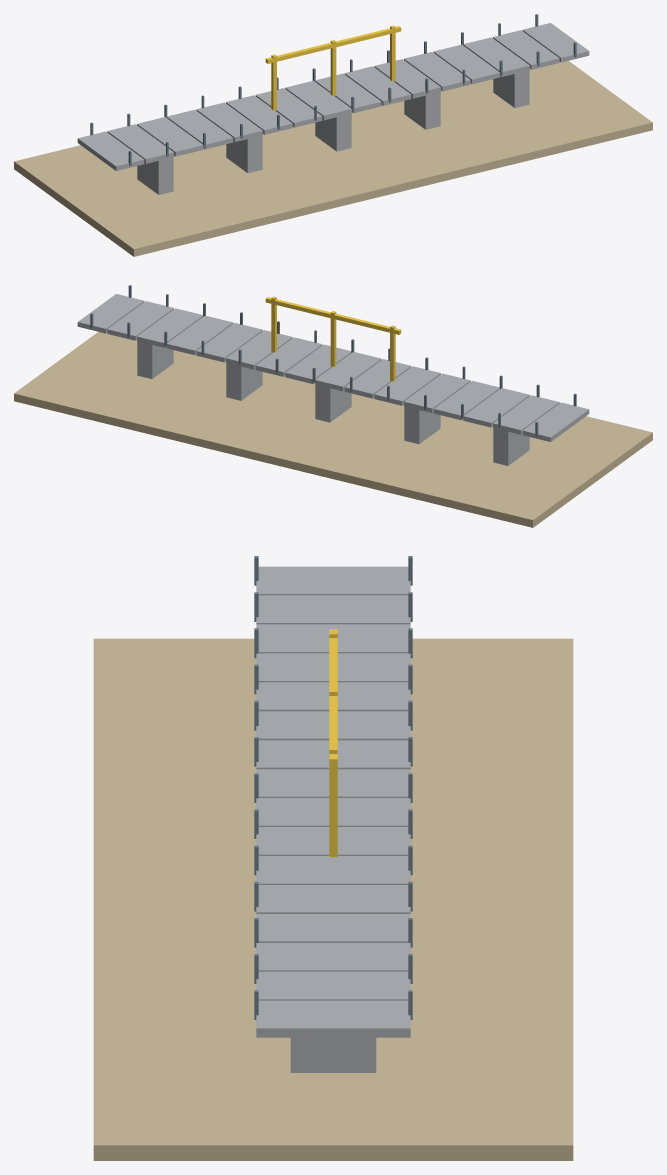
File: gpt-ponte-do-caos.glb
The picture shows the model from 3 angles, top to bottom: view 1: azimuth 30°, elevation 25°; view 2: azimuth 150°, elevation 25°; view 3: azimuth 270°, elevation 25°; orthographic projection. The views are drawn at different scales.
Parts seen in each view (by area): view 1: Ponte do Caos-000, Ponte do Caos-006, Ponte do Caos-018, Ponte do Caos-008, Ponte do Caos-013, Ponte do Caos-007, Ponte do Caos-017, Ponte do Caos-021, Ponte do Caos-015, Ponte do Caos-019, Ponte do Caos-020, Ponte do Caos-009 (+11 smaller); view 2: Ponte do Caos-000, Ponte do Caos-006, Ponte do Caos-018, Ponte do Caos-008, Ponte do Caos-013, Ponte do Caos-007, Ponte do Caos-017, Ponte do Caos-021, Ponte do Caos-015, Ponte do Caos-019, Ponte do Caos-020, Ponte do Caos-009 (+11 smaller); view 3: Ponte do Caos-000, Ponte do Caos-021, Ponte do Caos-020, Ponte do Caos-006, Ponte do Caos-007, Ponte do Caos-019, Ponte do Caos-016, Ponte do Caos-017, Ponte do Caos-018, Ponte do Caos-008, Ponte do Caos-009, Ponte do Caos-010 (+8 smaller).
Part boxes in pixels (box(x1,y1,x2,y2)): Ponte do Caos-000: box(14, 61, 652, 256); Ponte do Caos-006: box(77, 131, 144, 170); Ponte do Caos-018: box(433, 44, 500, 84); Ponte do Caos-008: box(137, 117, 203, 156); Ponte do Caos-013: box(285, 81, 351, 120); Ponte do Caos-007: box(107, 124, 173, 163); Ponte do Caos-017: box(404, 52, 470, 91); Ponte do Caos-021: box(522, 23, 589, 62); Ponte do Caos-015: box(344, 66, 411, 105); Ponte do Caos-019: box(463, 37, 529, 76); Ponte do Caos-020: box(493, 30, 559, 69); Ponte do Caos-009: box(167, 109, 233, 149); Ponte do Caos-000: box(14, 332, 652, 527); Ponte do Caos-006: box(522, 402, 589, 441); Ponte do Caos-018: box(166, 315, 233, 355); Ponte do Caos-008: box(463, 388, 529, 427); Ponte do Caos-013: box(315, 352, 381, 391); Ponte do Caos-007: box(493, 395, 559, 434); Ponte do Caos-017: box(196, 323, 262, 362); Ponte do Caos-021: box(77, 294, 144, 333); Ponte do Caos-015: box(255, 337, 322, 376); Ponte do Caos-019: box(137, 308, 203, 347); Ponte do Caos-020: box(107, 301, 173, 340); Ponte do Caos-009: box(433, 380, 499, 420); Ponte do Caos-000: box(93, 638, 573, 1160); Ponte do Caos-021: box(256, 1000, 410, 1037); Ponte do Caos-020: box(256, 971, 410, 1000); Ponte do Caos-006: box(256, 566, 410, 595); Ponte do Caos-007: box(256, 595, 410, 624); Ponte do Caos-019: box(256, 943, 410, 971); Ponte do Caos-016: box(256, 856, 410, 884); Ponte do Caos-017: box(256, 885, 410, 913); Ponte do Caos-018: box(256, 914, 410, 942); Ponte do Caos-008: box(256, 624, 410, 653); Ponte do Caos-009: box(256, 653, 410, 682); Ponte do Caos-010: box(256, 682, 410, 711).
Size of the model in its own units: 70 by 14 by 28.
